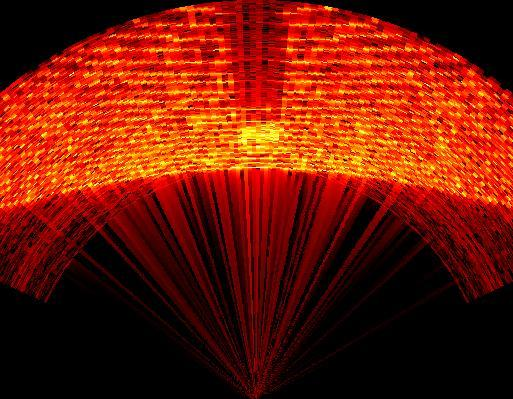box_crate: (217, 7, 292, 157)
